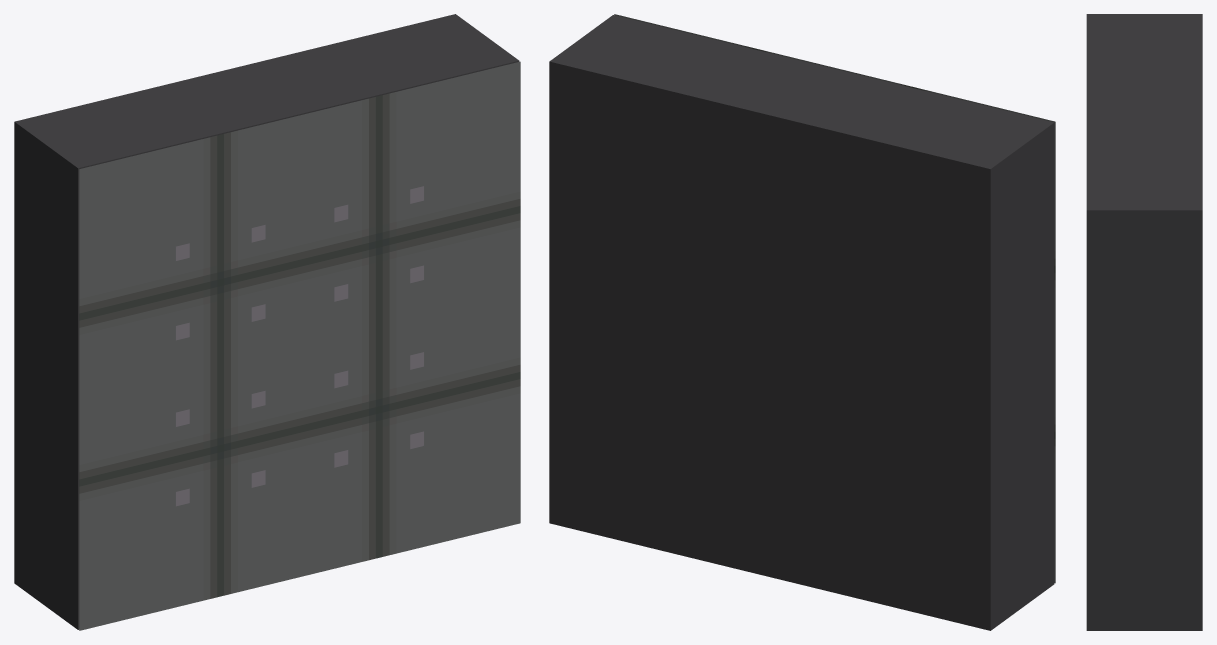
File: controller.obj
The picture shows the model from 3 angles, left to right: view 1: azimuth 30°, elevation 25°; view 2: azimuth 150°, elevation 25°; view 3: azimuth 270°, elevation 25°; orthographic projection. The views are drawn at different scales.
Visible parts, largest first — view 1: Controller2, Controller1; view 2: Controller1, Controller2; view 3: Controller1.
Boxes of the visible parts, x1,y1,x2,y2 form: Controller2: (79,61,520,630); Controller1: (14,14,519,629); Controller1: (549,15,1054,630); Controller2: (614,14,1055,583); Controller1: (1086,14,1202,630).
Size of the model in its own units: 4 by 4 by 1.02.
Materials: 2 (1 with a texture image).
